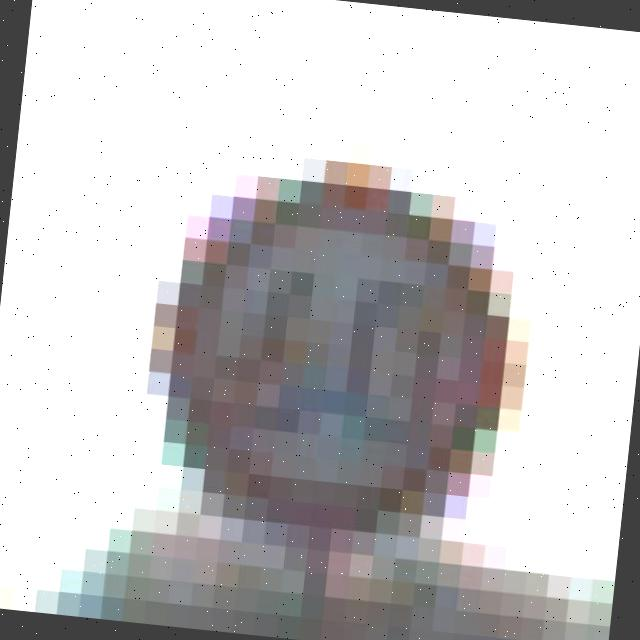Ograniczenie predkosci do 60: (24, 71, 633, 640)
